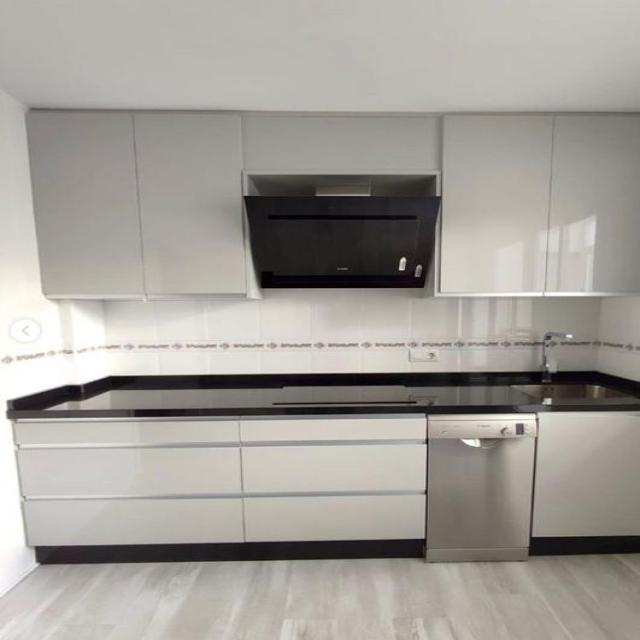dishwasher: (426, 409, 530, 562)
